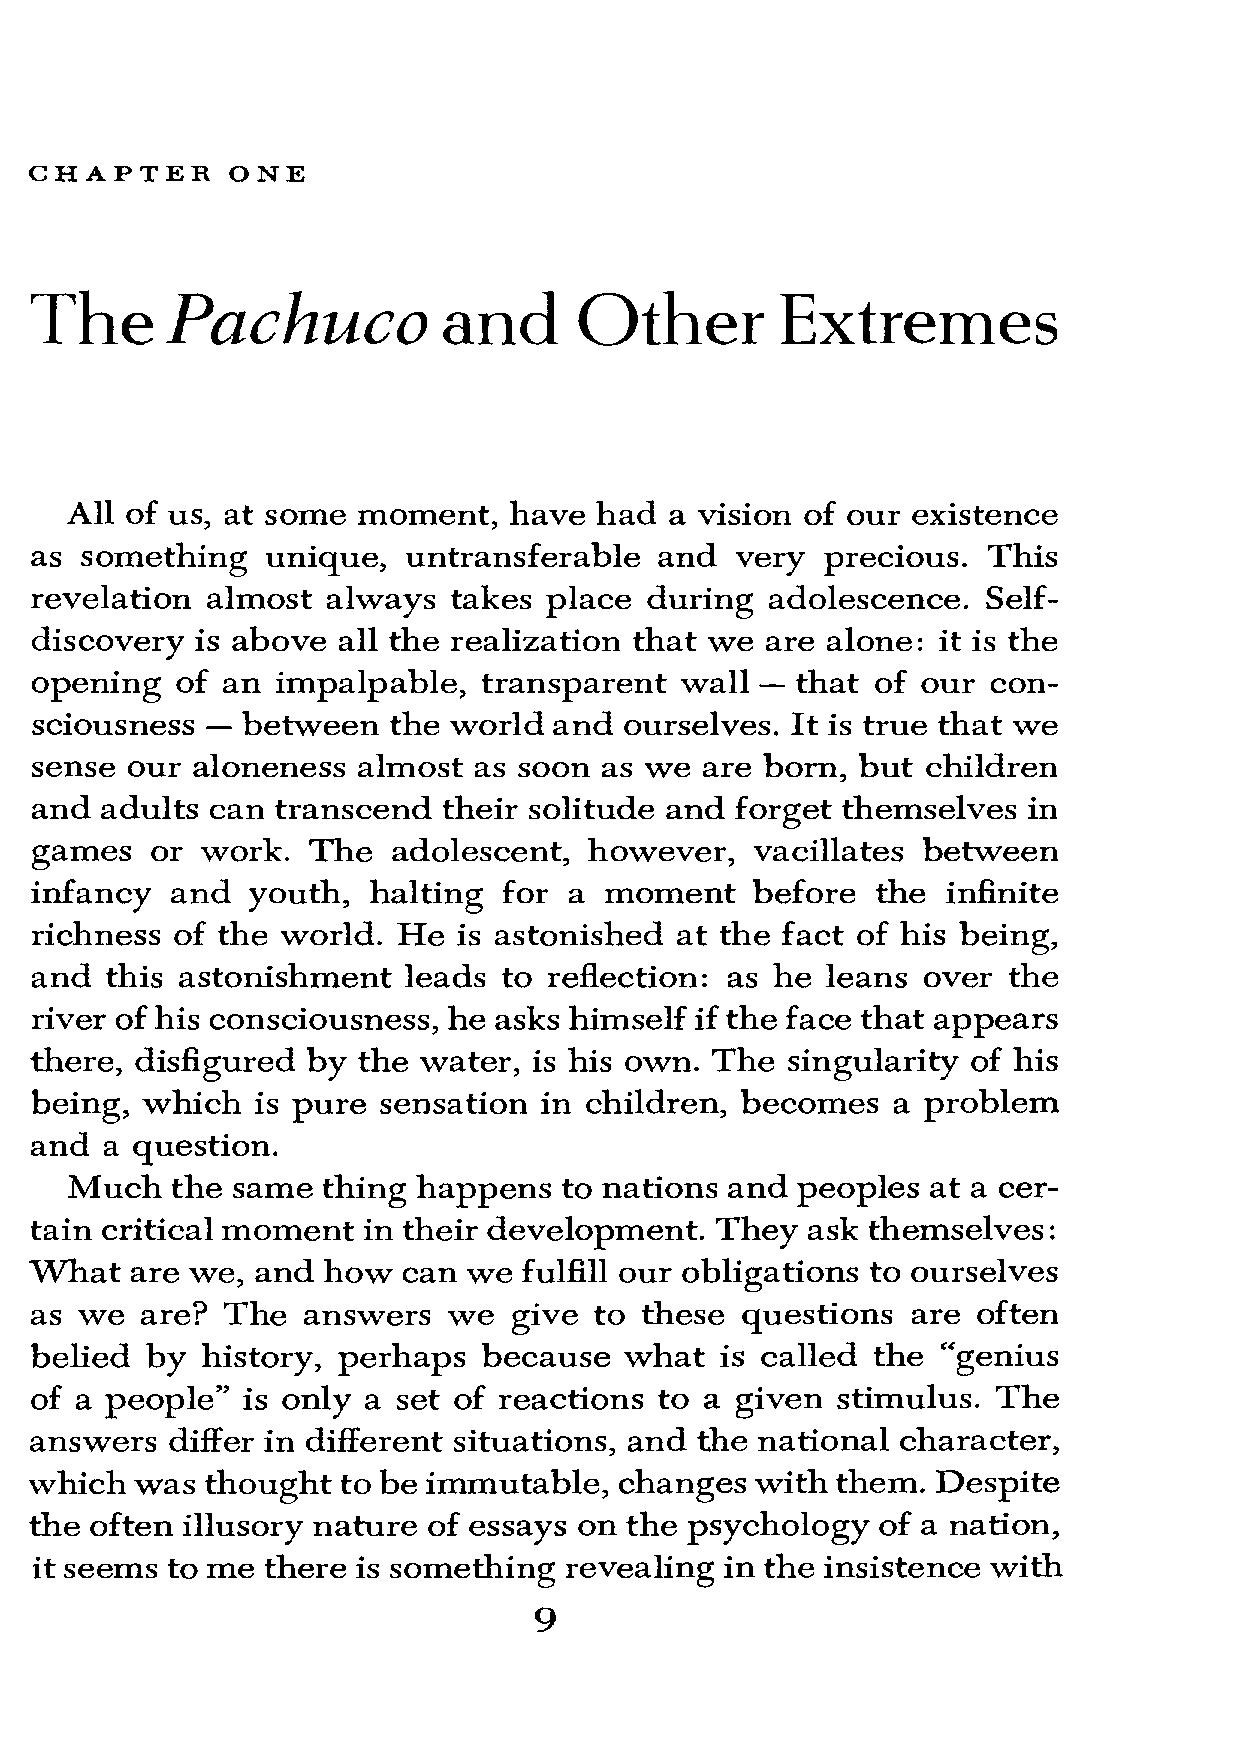chapter: (21, 158, 1057, 352)
content: (27, 495, 1066, 1588)
content_pagenumber: (527, 1602, 561, 1636)
